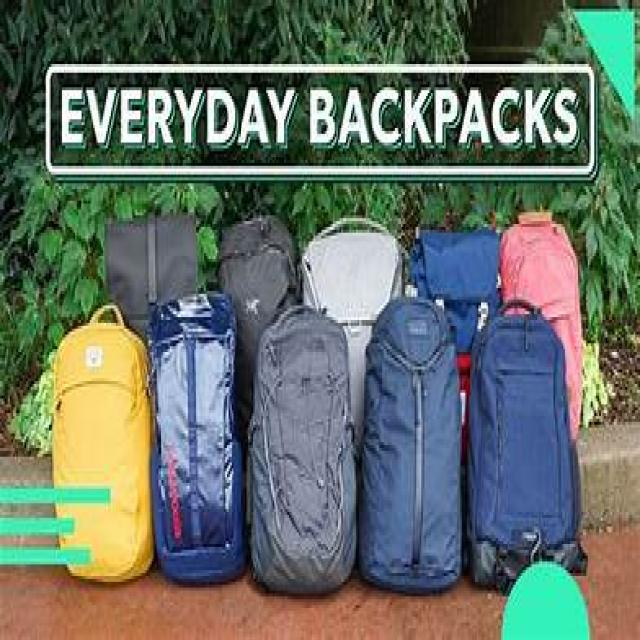backpack: (466, 301, 587, 592), (246, 304, 358, 595), (359, 295, 463, 594), (52, 303, 156, 583), (499, 211, 584, 446)
